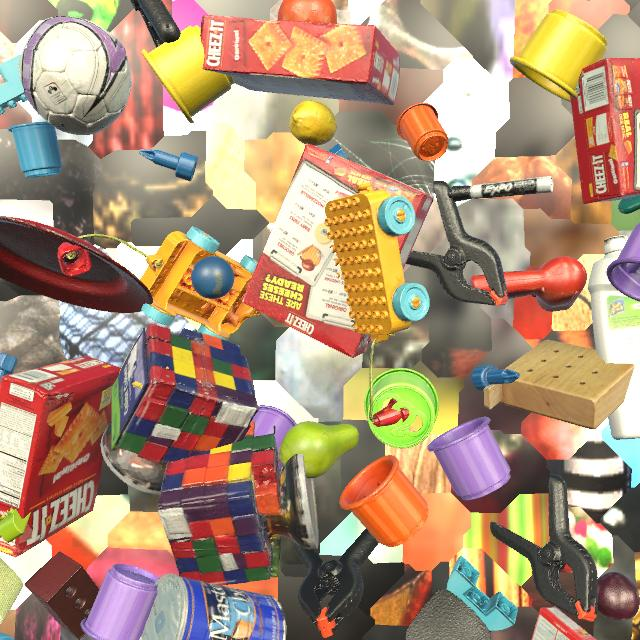ycb_002_master_chef_can: (139, 573, 286, 640)
ycb_003_cracker_box: (242, 144, 433, 358), (0, 356, 121, 557), (200, 15, 400, 105), (570, 58, 640, 204)
ycb_009_gelatin_box: (531, 606, 596, 640)
ycb_014_lemon: (290, 100, 337, 146)
ycb_016_pear: (279, 421, 359, 478)
ycb_017_orange: (277, 0, 337, 24)
ycb_018_plum: (597, 572, 640, 621)
